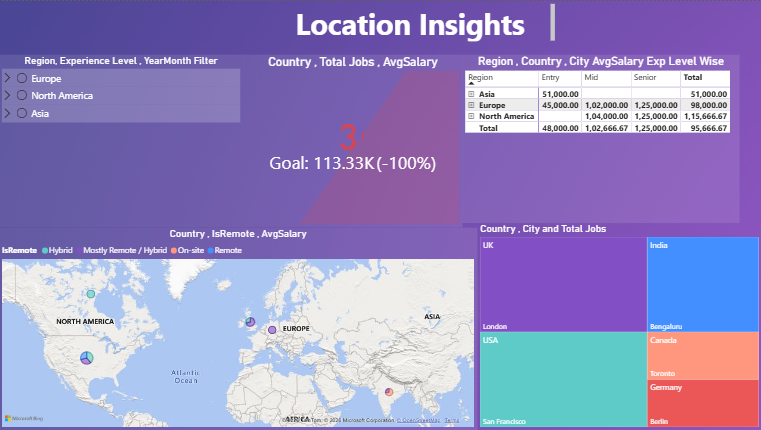

The dashboard page shown, as its layout file describes it:
{"tool":"powerbi","page":{"name":"Location Insights","canvas":[1280,720],"ordinal":1},"visuals":[{"type":"textbox","box":[447.5,0,490,72.5],"z":0},{"type":"listSlicer","title":"Region, Experience Level , YearMonth Filter","fields":{"Values":["Dim_Locations.Region","Fact_Jobs.Experience_Level","Dim_Date.YearMonth"]},"box":[0,90,410,290],"z":1000},{"type":"map","title":"Country , IsRemote , AvgSalary","fields":{"Category":["Dim_Locations.Country"],"Series":["Fact_Jobs.IsRemote"],"Size":["Fact_Jobs.Avg_Salary_By_Country"]},"box":[0,380,802.5,340],"z":2000},{"type":"kpi","title":"Country , Total Jobs , AvgSalary ","fields":{"Indicator":["Fact_Jobs.Total_Jobs"],"Goal":["Fact_Jobs.Avg_Salary_By_Country"],"TrendLine":["Dim_Locations.Country"]},"box":[410,90,367.5,290],"z":3000},{"type":"treemap","title":"Country , City and Total Jobs","fields":{"Group":["Dim_Locations.Country"],"Values":["Fact_Jobs.Total_Jobs"],"Details":["Dim_Locations.City"]},"box":[802.5,372.5,477.5,347.5],"z":4000},{"type":"pivotTable","title":"Region , Country , City AvgSalary Exp Level Wise ","fields":{"Values":["Fact_Jobs.Avg_Salary_By_Country"],"Rows":["Dim_Locations.Region","Dim_Locations.Country","Dim_Locations.City"],"Columns":["Fact_Jobs.Experience_Level"]},"box":[777.5,90,465,282.5],"z":5000}]}

Visuals, with their boxes in screenshot pixels (x1, y1, x2, y2), scaled from the page's 1280x720 canvas onto the 761x430 screenshot:
textbox: [266,0,557,43]
"Region, Experience Level , YearMonth Filter" listSlicer: [0,54,244,227]
"Country , IsRemote , AvgSalary" map: [0,227,477,429]
"Country , Total Jobs , AvgSalary " kpi: [244,54,462,227]
"Country , City and Total Jobs" treemap: [477,222,760,429]
"Region , Country , City AvgSalary Exp Level Wise " pivotTable: [462,54,739,222]
